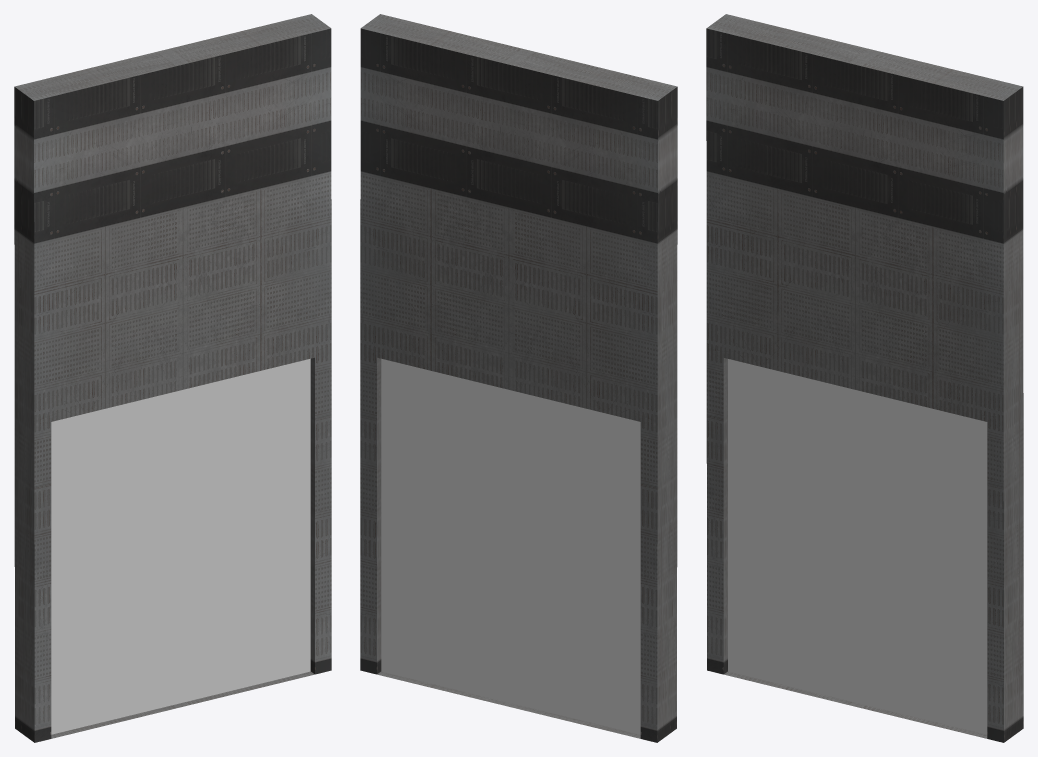
File: Sci Fi Room Game Door.fbx
The picture shows the model from 3 angles, left to right: view 1: azimuth 30°, elevation 25°; view 2: azimuth 150°, elevation 25°; view 3: azimuth 330°, elevation 25°; orthographic projection.
Visible parts, largest first — view 1: Cube.005, Cube.004; view 2: Cube.005, Cube.004; view 3: Cube.005, Cube.004.
Part boxes in pixels (x1,y1,x2,y2): Cube.005: [14, 14, 331, 742]; Cube.004: [51, 358, 310, 734]; Cube.005: [360, 14, 677, 742]; Cube.004: [381, 358, 640, 734]; Cube.005: [706, 14, 1023, 742]; Cube.004: [728, 359, 987, 734].
Size of the model in its own units: 329 by 678 by 37.7.
